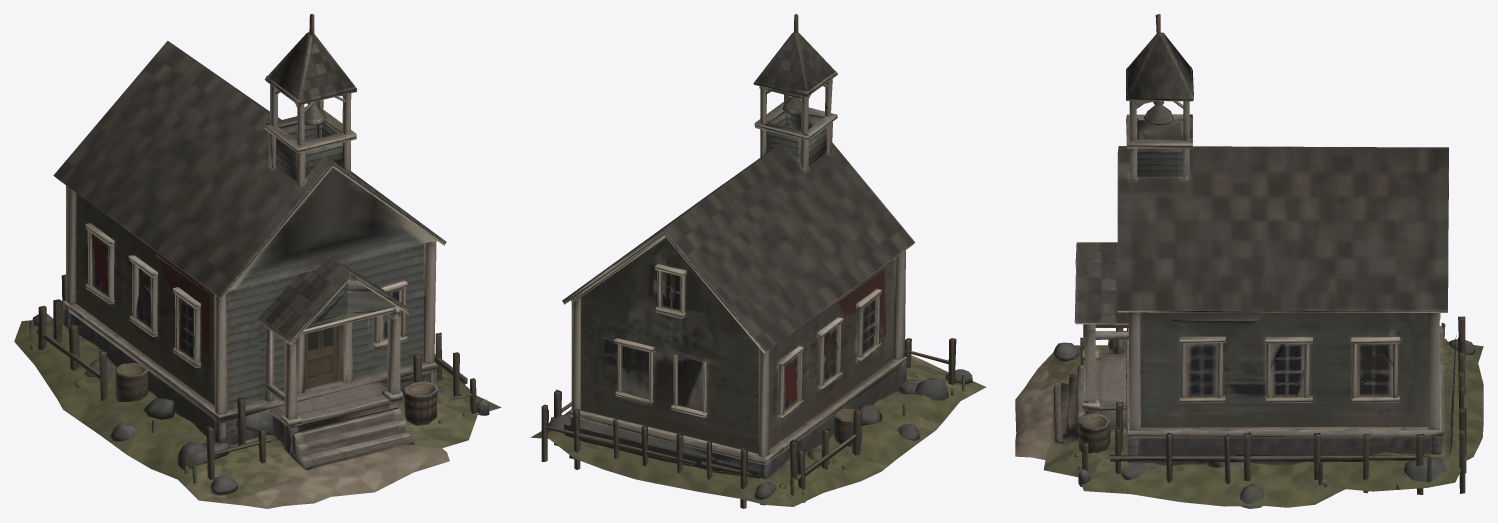
The model's file is Meshy_AI_schoolhouse_textured_0921204759_texture.glb.
The picture shows the model from 3 angles, left to right: view 1: azimuth 30°, elevation 25°; view 2: azimuth 150°, elevation 25°; view 3: azimuth 270°, elevation 25°; orthographic projection. The views are drawn at different scales.
Bounding box in the file's own units: 1.66 × 1.99 × 2.
Materials: 1 (1 with a texture image).
